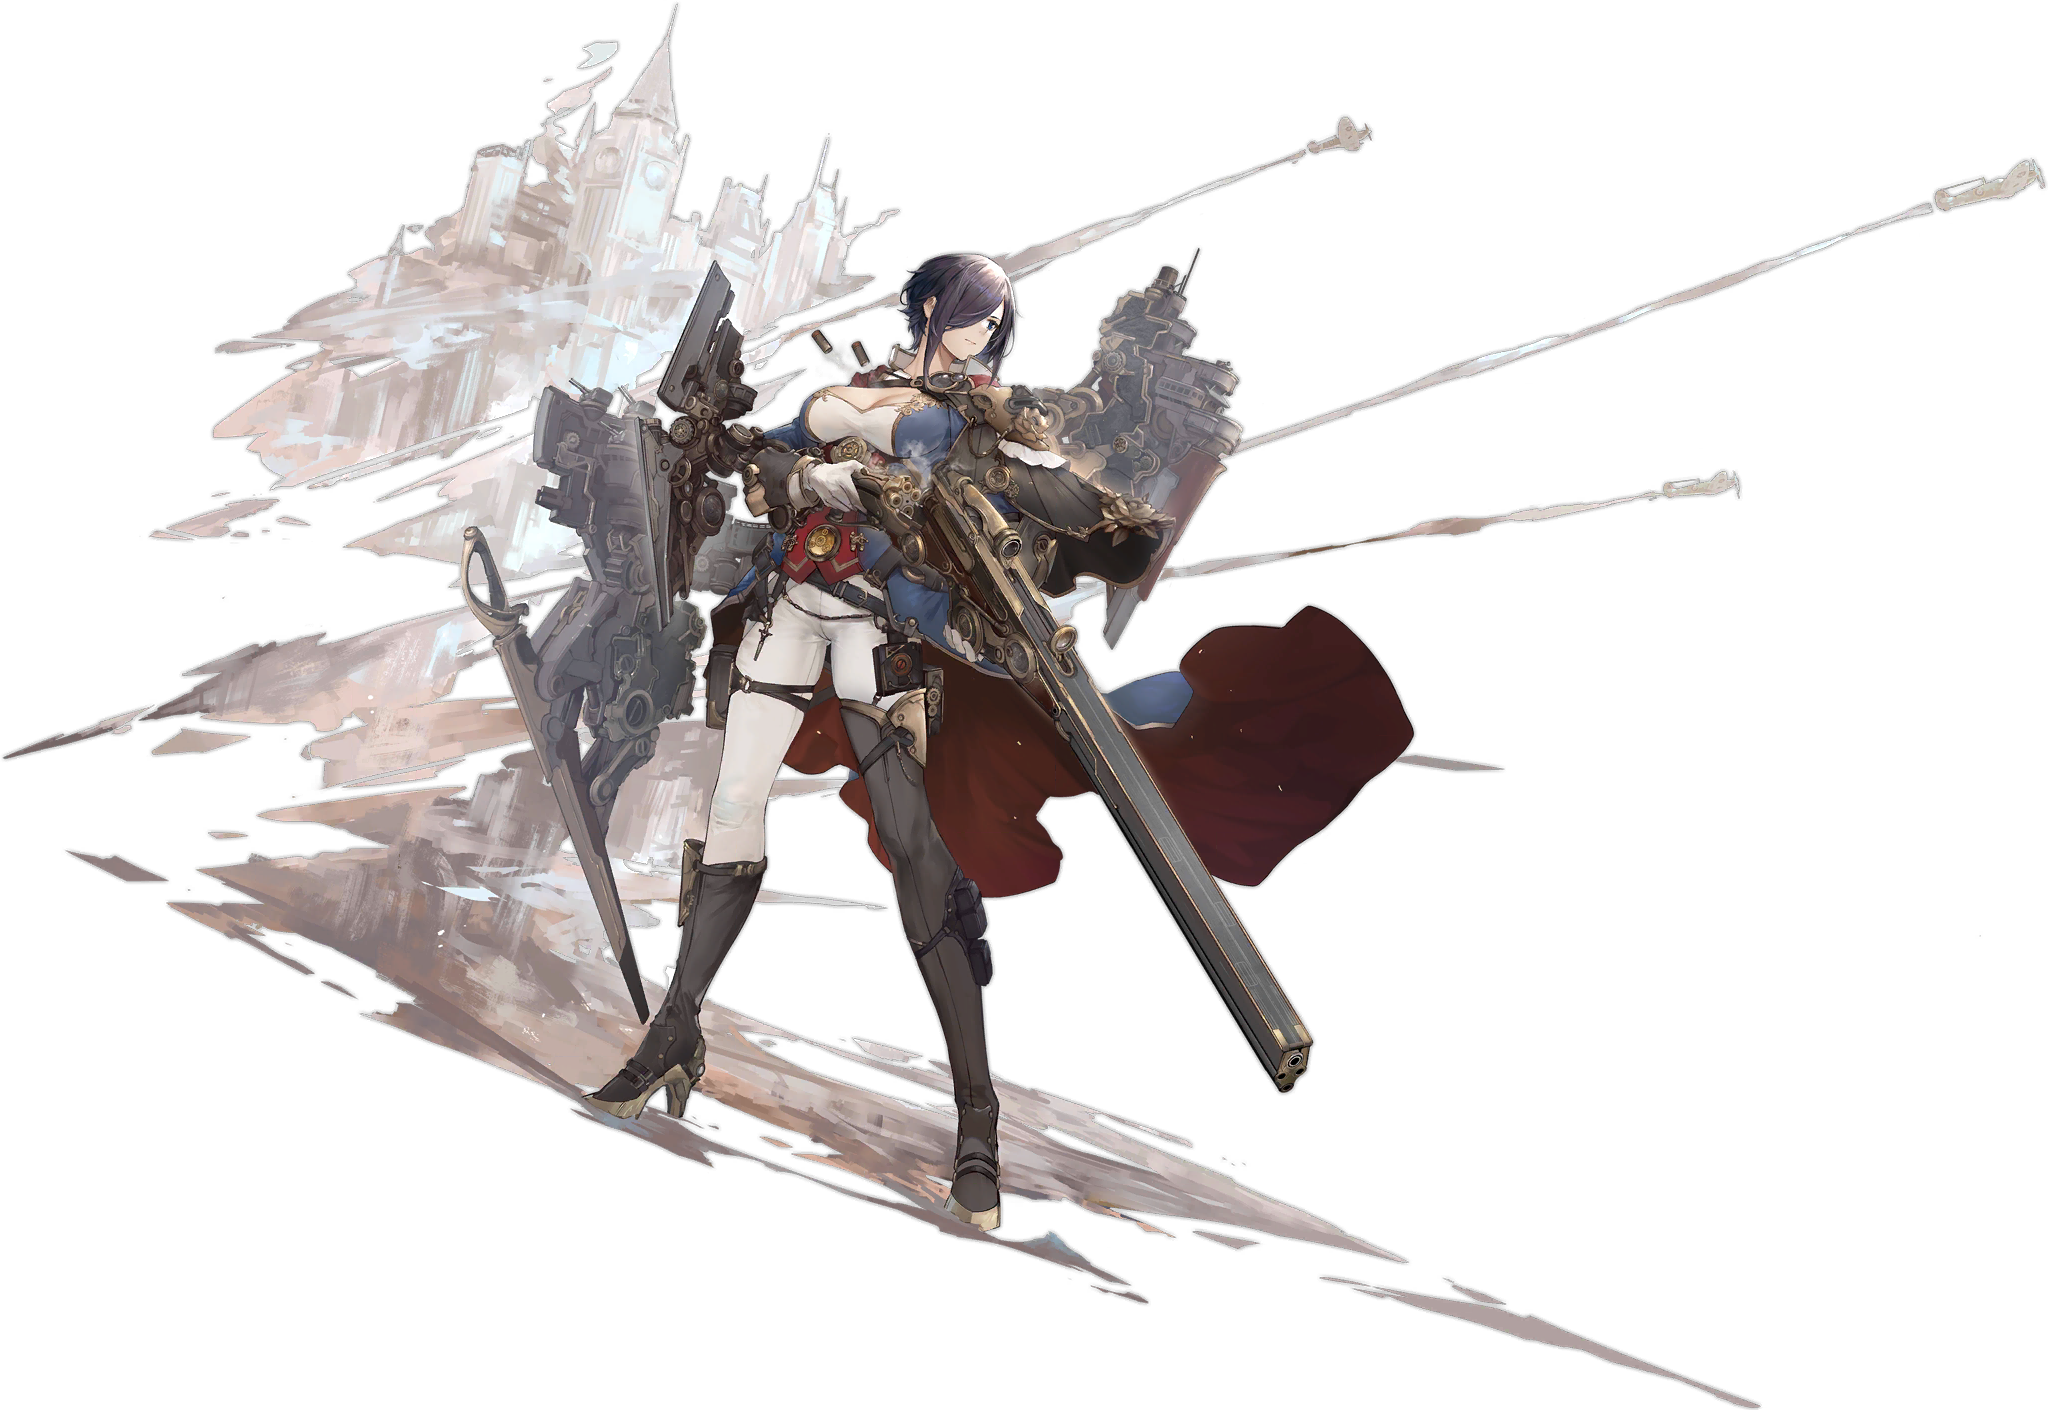person: (657, 250, 1064, 925)
